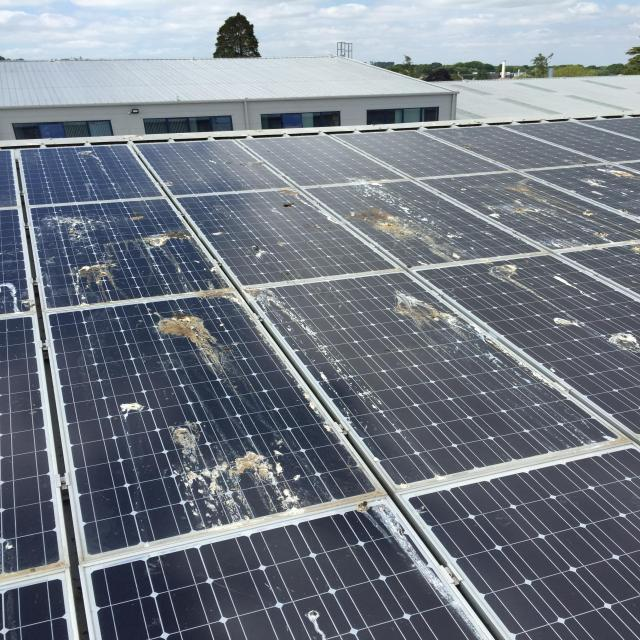soiled: (0, 162, 639, 636)
